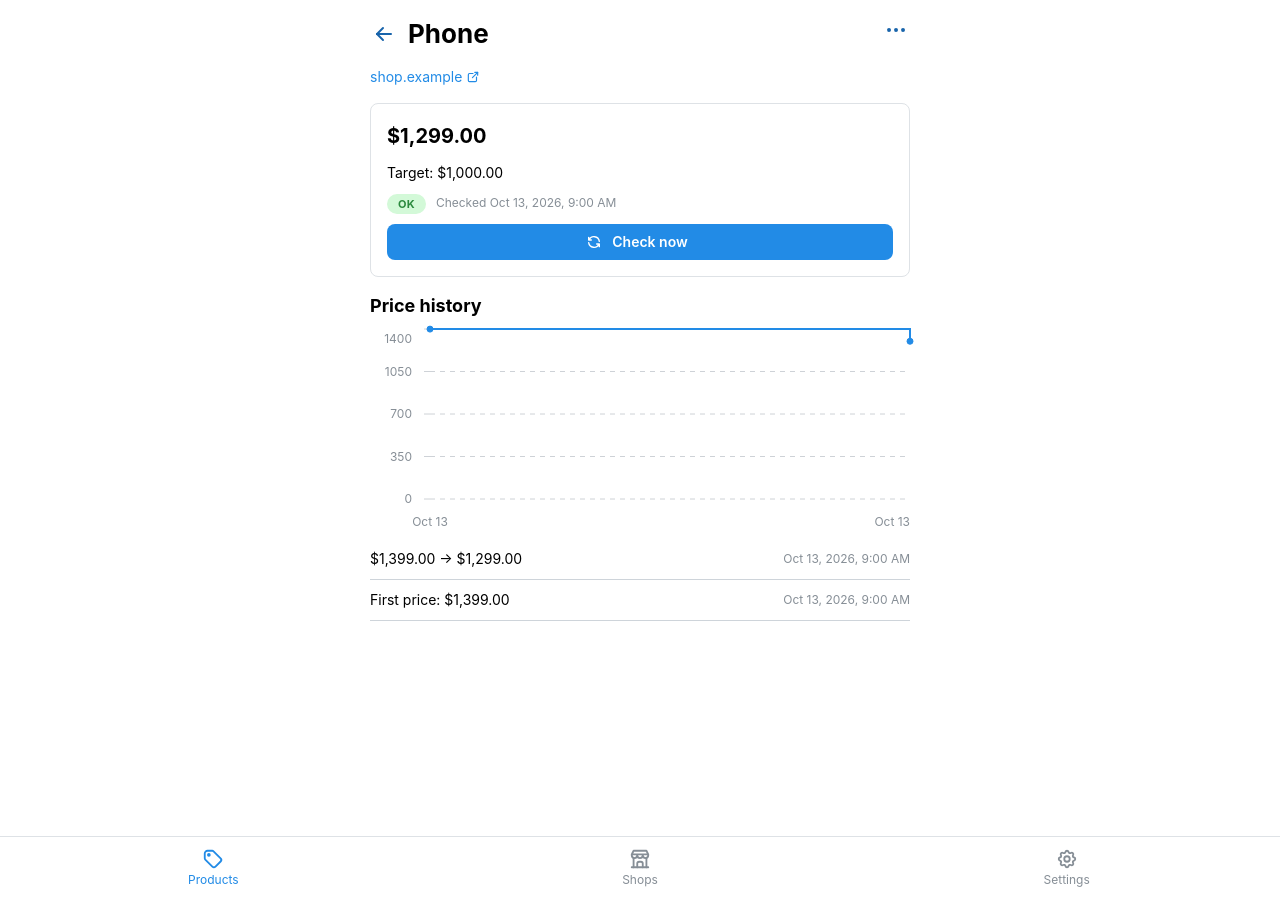
ProductDetailsPage › checks the price now and refreshes the history when it changed
Expected: the list named "Price changes" is shown, [370,539,910,621]
Click the button "Check now".
click(640, 242)  # box [387,224,893,260]
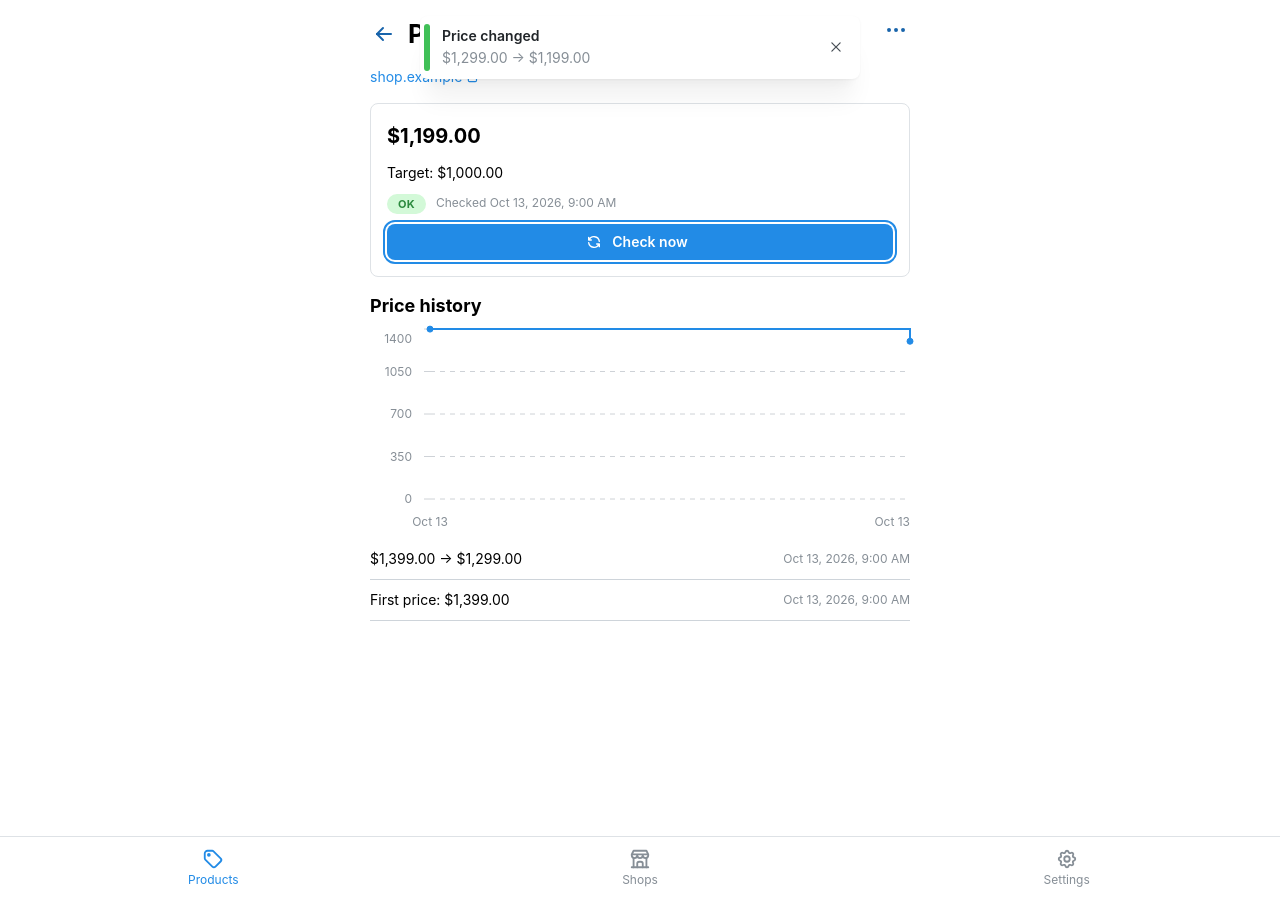
Expected: the text "$1,299.00 → $1,199.00" is shown, [442,49,590,66]
Expected: the text "Price changed" is shown, [442,27,539,44]
